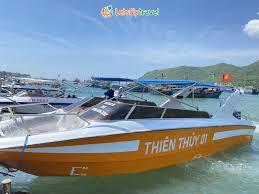Ship: (1, 82, 256, 177), (1, 90, 81, 115)
